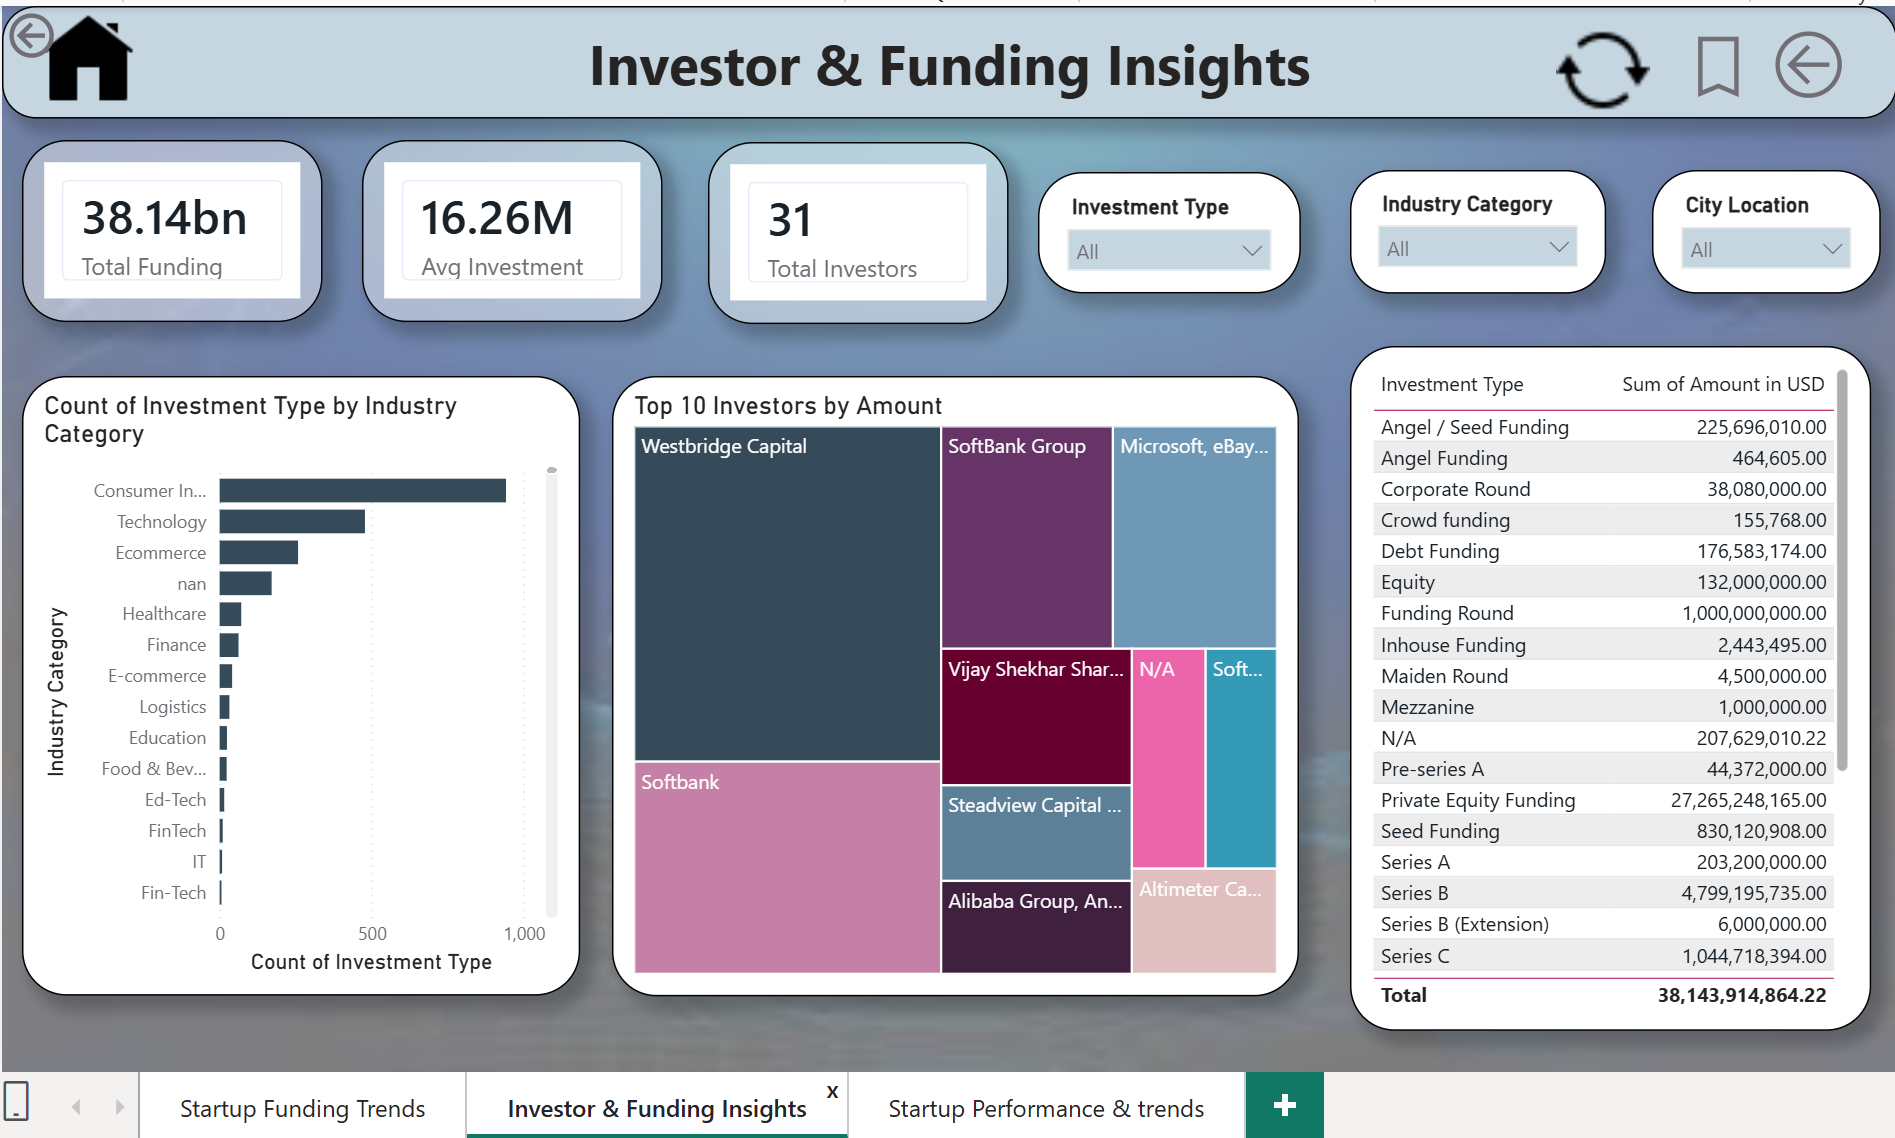

What the dashboard file says about the page in this screenshot:
{"tool":"powerbi","page":{"name":"Investor & Funding Insights","canvas":[1280,720],"ordinal":1},"visuals":[{"type":"textbox","box":[0,0,1280,75.8],"z":0},{"type":"cardVisual","fields":{"Data":["Final Cleaned(in).Avg Investment"]},"box":[242.7,91,203.2,122.8],"z":1000},{"type":"cardVisual","fields":{"Data":["Final Cleaned(in).Total Investors"]},"box":[476.2,92.5,203.2,122.8],"z":2000},{"type":"cardVisual","fields":{"Data":["Final Cleaned(in).Total Funding"]},"box":[13.6,91,203.2,122.8],"z":3000},{"type":"treemap","title":"Top 10 Investors by Amount","fields":{"Group":["Final Cleaned(in).Investors Name"],"Values":["Sum(Final Cleaned(in).Amount in USD)"]},"box":[412.5,250,464.1,418.8],"z":4000},{"type":"tableEx","fields":{"Values":["Final Cleaned(in).Investment Type","Sum(Final Cleaned(in).Amount in USD)"]},"box":[910,229,351.8,462.6],"z":5000},{"type":"slicer","fields":{"Values":["Final Cleaned(in).City  Location"]},"box":[1114.7,110.7,154.7,83.4],"z":6000},{"type":"slicer","fields":{"Values":["Final Cleaned(in).Industry Category"]},"box":[910,110.7,172.9,83.4],"z":7000},{"type":"slicer","fields":{"Values":["Final Cleaned(in).Investment Type"]},"box":[699.1,112.2,177.4,81.9],"z":8000},{"type":"image","box":[13.6,6.1,89.5,62.2],"z":9000},{"type":"barChart","fields":{"Category":["Final Cleaned(in).Industry Category"],"Y":["CountNonNull(Final Cleaned(in).Investment Type)"]},"box":[13.3,249.9,376.8,418.5],"z":10000},{"type":"actionButton","box":[103.2,11.3,56.3,52.6],"z":11000},{"type":"image","box":[1054.8,0,63.8,86.3],"z":12000},{"type":"actionButton","box":[1199.3,16.9,69.4,46.9],"z":13000},{"type":"actionButton","box":[1135.5,9.4,69.4,56.3],"z":14000}]}

Visuals, with their boxes on the page's 1280x720 design canvas (x1, y1, x2, y2). These are canvas units, not pixel positions in the 1895x1138 screenshot, which may show the page scaled, cropped or inside an application window:
textbox: crop(0, 0, 1280, 76)
cardVisual - Final Cleaned(in).Avg Investment: crop(243, 91, 446, 214)
cardVisual - Final Cleaned(in).Total Investors: crop(476, 92, 679, 215)
cardVisual - Final Cleaned(in).Total Funding: crop(14, 91, 217, 214)
"Top 10 Investors by Amount" treemap: crop(412, 250, 877, 669)
tableEx - Final Cleaned(in).Investment Type x Sum(Final Cleaned(in).Amount in USD): crop(910, 229, 1262, 692)
slicer - Final Cleaned(in).City  Location: crop(1115, 111, 1269, 194)
slicer - Final Cleaned(in).Industry Category: crop(910, 111, 1083, 194)
slicer - Final Cleaned(in).Investment Type: crop(699, 112, 876, 194)
image: crop(14, 6, 103, 68)
barChart - Final Cleaned(in).Industry Category x CountNonNull(Final Cleaned(in).Investment Type): crop(13, 250, 390, 668)
actionButton: crop(103, 11, 160, 64)
image: crop(1055, 0, 1119, 86)
actionButton: crop(1199, 17, 1269, 64)
actionButton: crop(1136, 9, 1205, 66)
